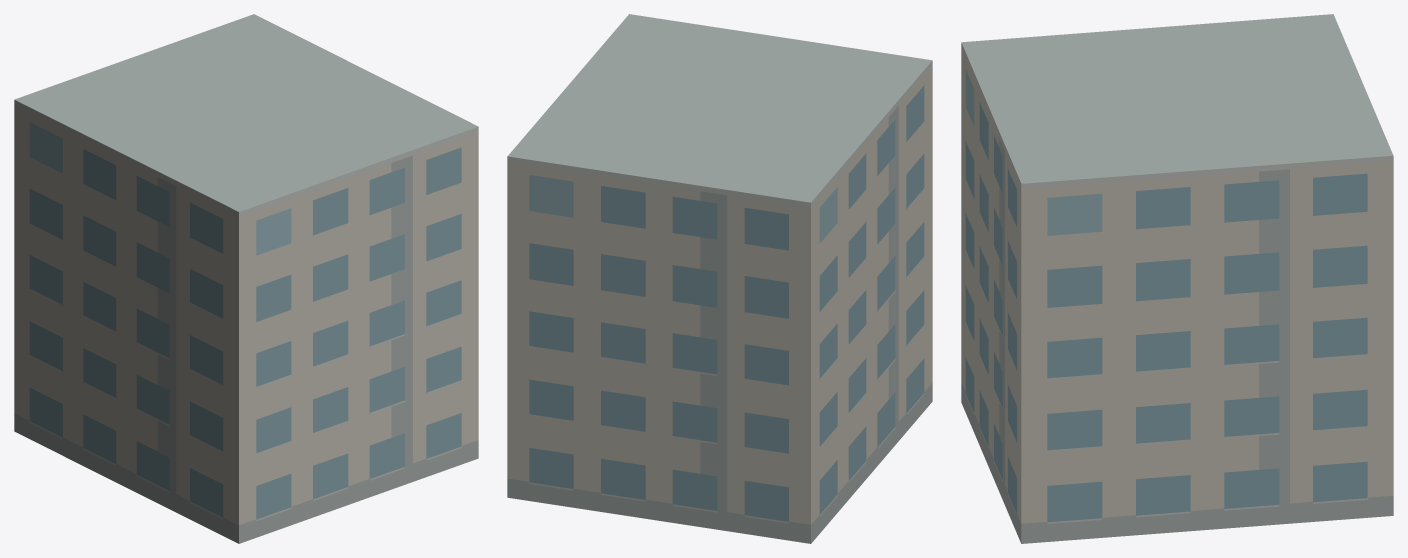
Rendered from residential-22efeb0b-a4db-4e6e-aece-f79eb684c1da.glb.
The picture shows the model from 3 angles, left to right: view 1: azimuth 30°, elevation 25°; view 2: azimuth 150°, elevation 25°; view 3: azimuth 270°, elevation 25°; orthographic projection. The views are drawn at different scales.
Visible parts, largest first — view 1: residential-22efeb0b-a4db-4e6e-aece-f79eb684c1da.tmp; view 2: residential-22efeb0b-a4db-4e6e-aece-f79eb684c1da.tmp; view 3: residential-22efeb0b-a4db-4e6e-aece-f79eb684c1da.tmp.
Part boxes in pixels (box(x1,y1,x2,y2)): residential-22efeb0b-a4db-4e6e-aece-f79eb684c1da.tmp: box(14, 14, 478, 543); residential-22efeb0b-a4db-4e6e-aece-f79eb684c1da.tmp: box(507, 14, 932, 543); residential-22efeb0b-a4db-4e6e-aece-f79eb684c1da.tmp: box(961, 14, 1393, 543).
Bounding box in the file's own units: 15.43 × 15.25 × 16.6.
